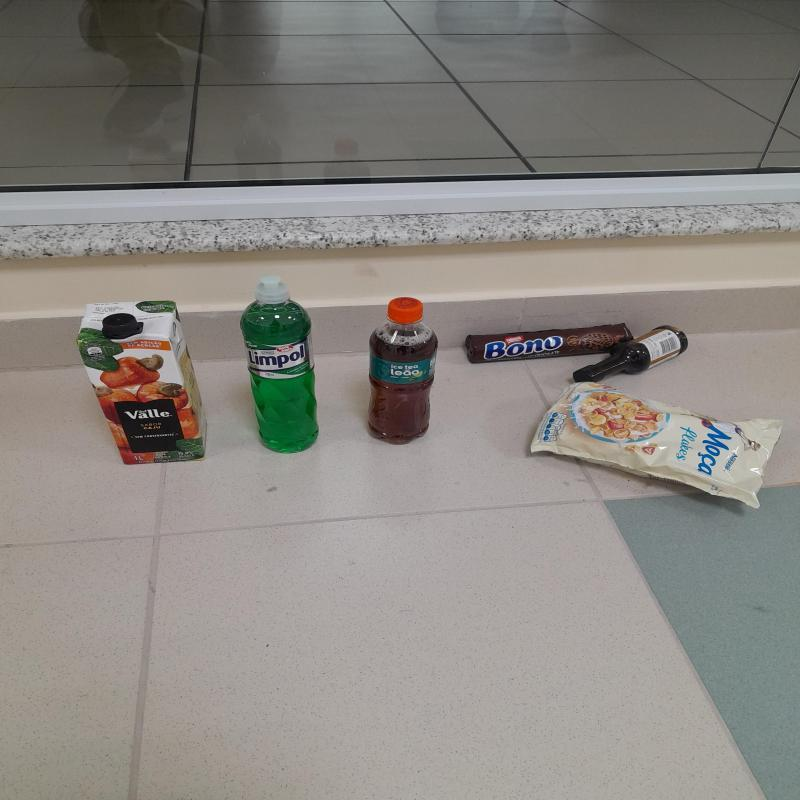Cleaner: (239, 279, 320, 458)
Cookies: (465, 323, 634, 366)
CornFlakes: (530, 384, 783, 511)
EnglishSauce: (573, 329, 692, 387)
IceTea: (367, 298, 438, 448)
